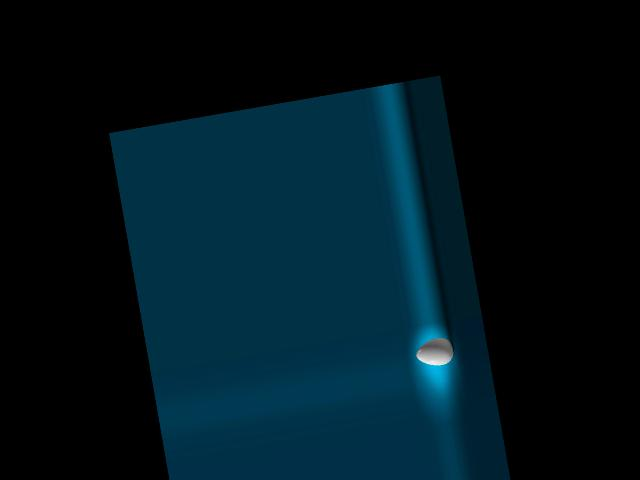egg: (414, 335, 456, 368)
